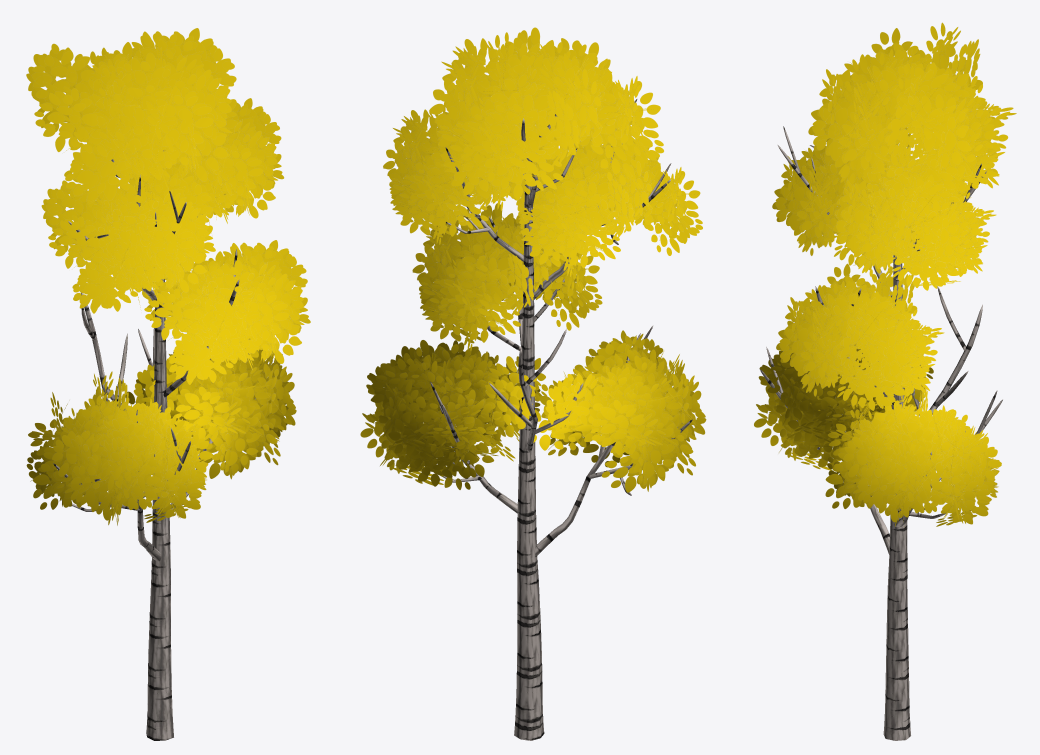
Rendered from BirchTree_2.gltf.
3 views of the same model, side by side, from view 1: azimuth 30°, elevation 25°; view 2: azimuth 150°, elevation 25°; view 3: azimuth 270°, elevation 25° (orthographic). The views are drawn at different scales.
Visible parts, largest first — view 1: BirchTree_2; view 2: BirchTree_2; view 3: BirchTree_2.
Part boxes in pixels (left/top/right/bottom): BirchTree_2: left=26, top=28, right=310, bottom=740; BirchTree_2: left=360, top=27, right=706, bottom=740; BirchTree_2: left=754, top=22, right=1016, bottom=740.
Size of the model in its own units: 3.35 by 7.57 by 2.81.
2 materials, 2 textured.
